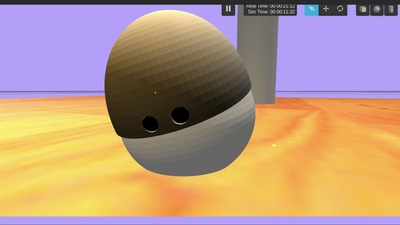mira_robot: (106, 9, 256, 176)
